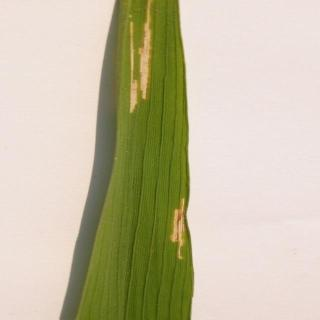Hawar-Daun: (152, 136, 233, 320), (118, 0, 172, 190)
